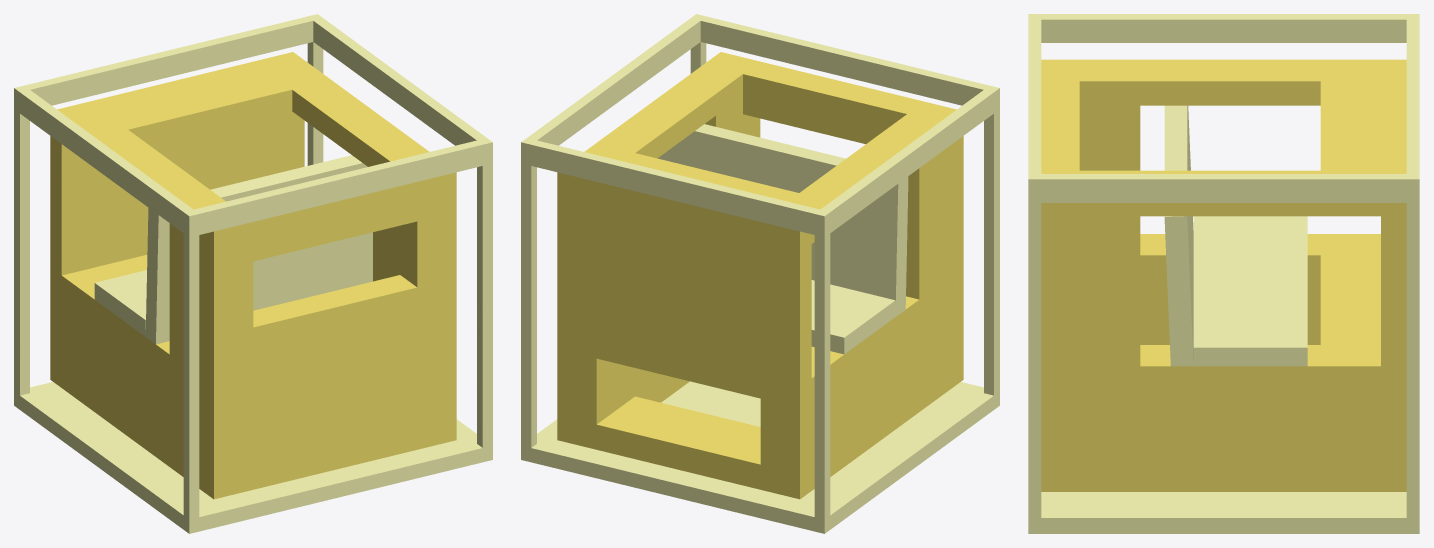
3 views of the same model, side by side, from view 1: azimuth 30°, elevation 25°; view 2: azimuth 150°, elevation 25°; view 3: azimuth 270°, elevation 25° (orthographic). The views are drawn at different scales.
Parts seen in each view (by area): view 1: 物件_1, 物件_4, 物件_3, 物件_11, 物件_10, 物件_9, 物件_7, 物件_12, 物件_5, 物件_8, 物件_2, 物件_6; view 2: 物件_1, 物件_4, 物件_3, 物件_10, 物件_11, 物件_9, 物件_8, 物件_12, 物件_6, 物件_7, 物件_2; view 3: 物件_1, 物件_2, 物件_4, 物件_12, 物件_9, 物件_3, 物件_5, 物件_6, 物件_10, 物件_11.
Boxes of the visible parts, x1,y1,x2,y2 form: 物件_1: (50, 52, 456, 499); 物件_4: (14, 382, 492, 533); 物件_3: (145, 155, 372, 344); 物件_11: (184, 138, 492, 235); 物件_10: (14, 15, 322, 113); 物件_9: (14, 86, 199, 235); 物件_7: (183, 209, 199, 519); 物件_12: (308, 15, 492, 154); 物件_5: (477, 138, 492, 447); 物件_8: (14, 85, 29, 395); 物件_2: (94, 270, 146, 336); 物件_6: (307, 14, 323, 165); 物件_1: (557, 52, 963, 499); 物件_4: (521, 381, 999, 533); 物件_3: (657, 124, 908, 316); 物件_10: (521, 138, 830, 235); 物件_11: (693, 15, 997, 105); 物件_9: (814, 85, 999, 236); 物件_8: (814, 209, 830, 519); 物件_12: (521, 14, 703, 162); 物件_6: (521, 138, 536, 447); 物件_7: (984, 85, 999, 395); 物件_2: (811, 280, 895, 354); 物件_1: (1041, 59, 1406, 491); 物件_2: (1193, 216, 1307, 366); 物件_4: (1028, 492, 1419, 533); 物件_12: (1029, 174, 1419, 202); 物件_9: (1028, 14, 1419, 42); 物件_3: (1164, 105, 1193, 366); 物件_5: (1028, 174, 1041, 517); 物件_6: (1406, 174, 1419, 517); 物件_10: (1406, 15, 1419, 202); 物件_11: (1028, 14, 1041, 202).
Size of the model in its own units: 48 by 48 by 48.
